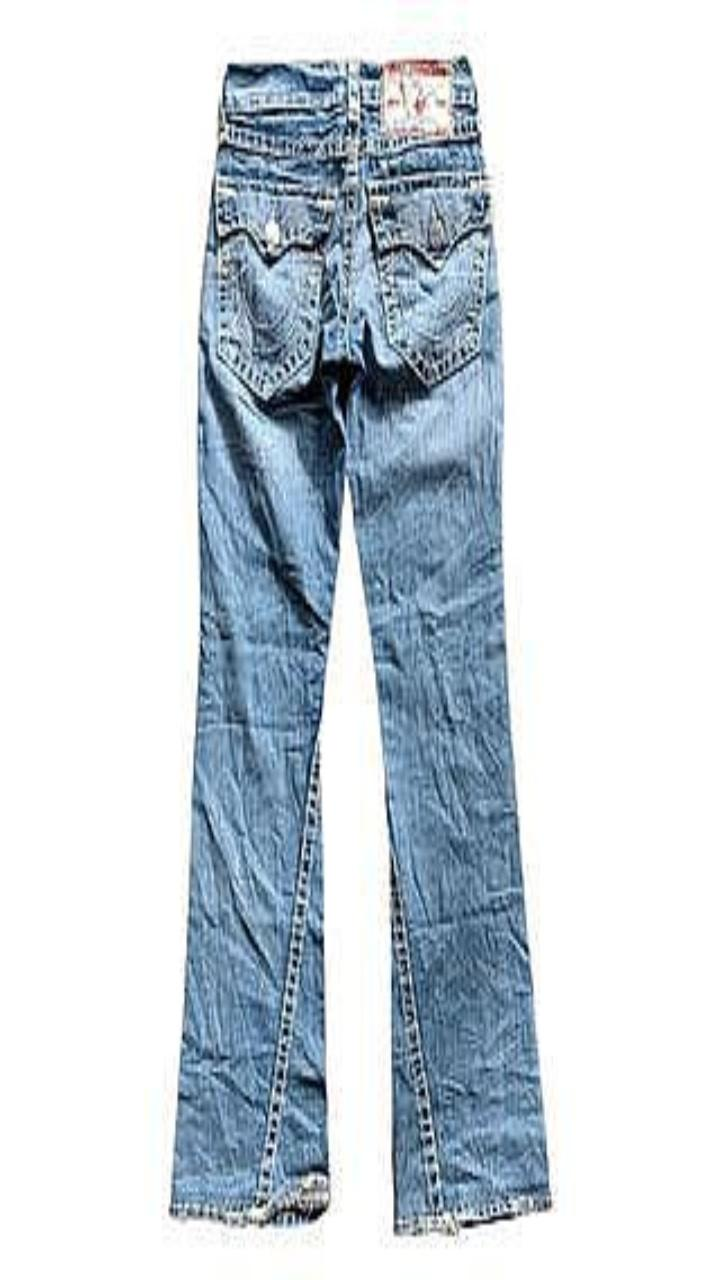Jeans: (170, 56, 550, 1232)
